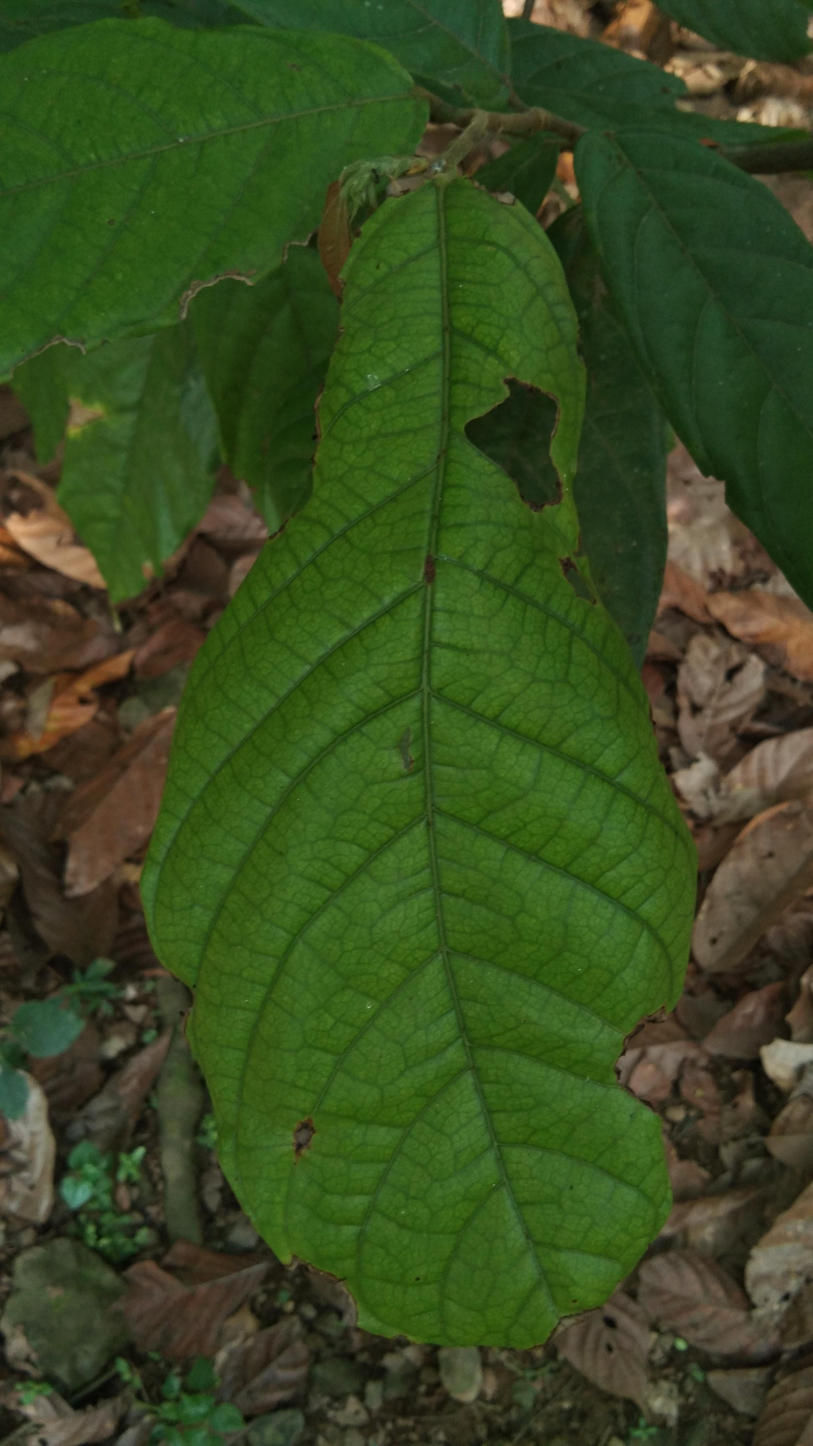deficiencia_potasio: (142, 178, 695, 1350)
